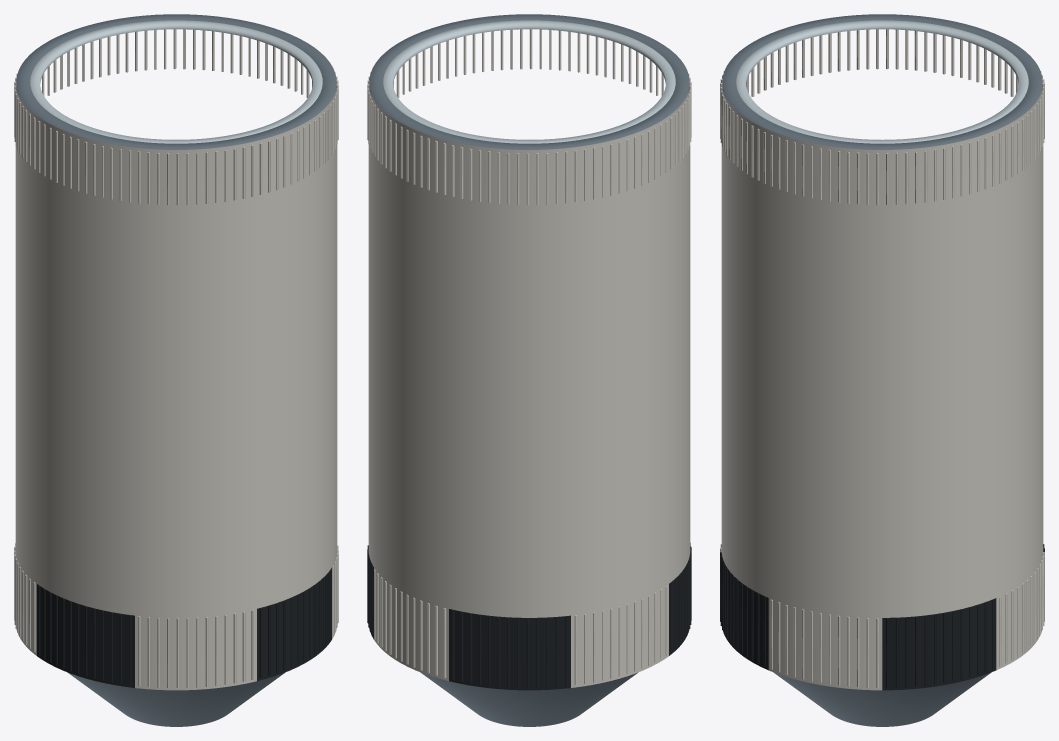
File: s_ivb_tank_section.glb
3 renders of one model, left to right at view 1: azimuth 30°, elevation 25°; view 2: azimuth 150°, elevation 25°; view 3: azimuth 270°, elevation 25°, orthographic.
Visible parts, largest first — view 1: s_ivbskinmesh.mesh_Warm_white_paint, s_ivbskinmesh.mesh_Charcoal_paint, s_ivbmesh.mesh_Machined_steel, s_ivbmesh.mesh_Satin_aluminum; view 2: s_ivbskinmesh.mesh_Warm_white_paint, s_ivbmesh.mesh_Machined_steel, s_ivbskinmesh.mesh_Charcoal_paint, s_ivbmesh.mesh_Satin_aluminum; view 3: s_ivbskinmesh.mesh_Warm_white_paint, s_ivbskinmesh.mesh_Charcoal_paint, s_ivbmesh.mesh_Machined_steel, s_ivbmesh.mesh_Satin_aluminum.
Boxes of the visible parts, x1,y1,x2,y2 form: s_ivbskinmesh.mesh_Warm_white_paint: (14, 29, 338, 690); s_ivbskinmesh.mesh_Charcoal_paint: (37, 568, 331, 687); s_ivbmesh.mesh_Machined_steel: (16, 14, 336, 726); s_ivbmesh.mesh_Satin_aluminum: (30, 20, 322, 143); s_ivbskinmesh.mesh_Warm_white_paint: (367, 29, 691, 687); s_ivbmesh.mesh_Machined_steel: (369, 14, 689, 726); s_ivbskinmesh.mesh_Charcoal_paint: (367, 543, 691, 690); s_ivbmesh.mesh_Satin_aluminum: (383, 20, 675, 143); s_ivbskinmesh.mesh_Warm_white_paint: (720, 29, 1044, 690); s_ivbskinmesh.mesh_Charcoal_paint: (720, 544, 1044, 690); s_ivbmesh.mesh_Machined_steel: (722, 14, 1042, 726); s_ivbmesh.mesh_Satin_aluminum: (736, 20, 1028, 143).
Size of the model in its own units: 6.66 by 14.04 by 6.66.
